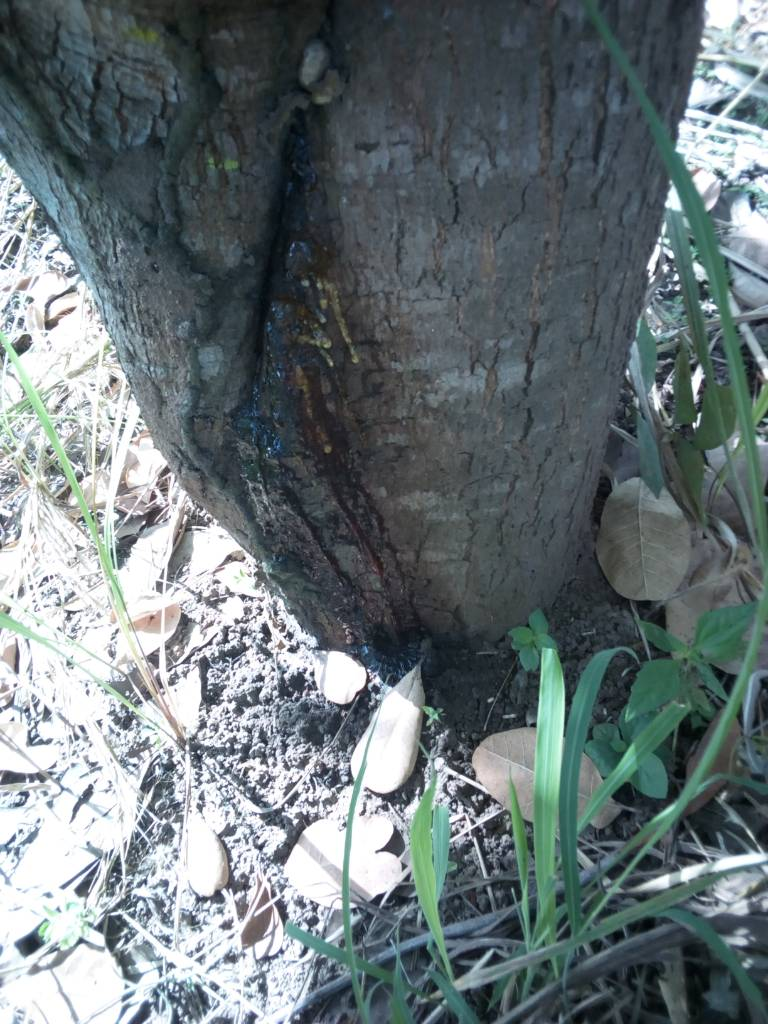Gommose: (255, 163, 393, 627)
